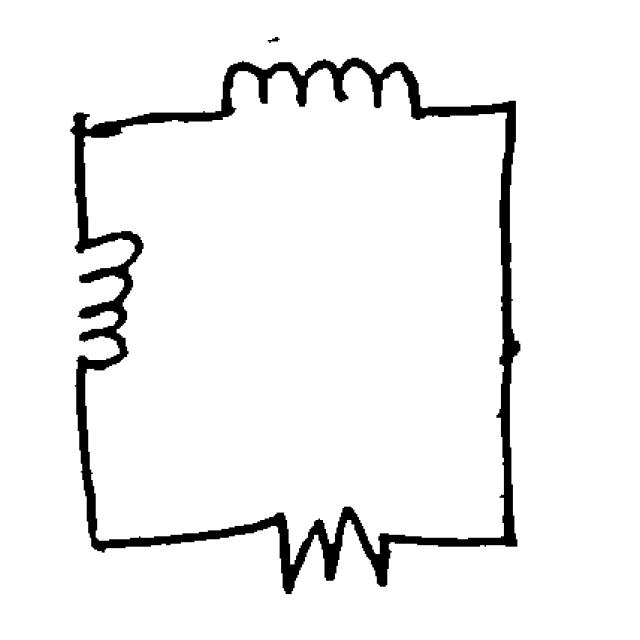inductor: (208, 39, 440, 141), (55, 200, 152, 398)
resistor: (245, 488, 408, 605)
